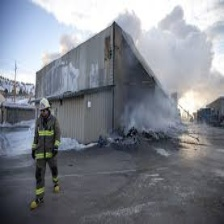smoke: (131, 103, 175, 128)
